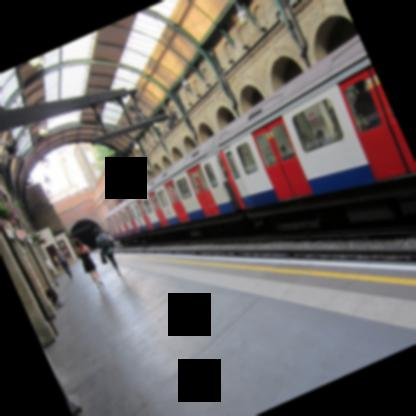backpack: (98, 234, 110, 250)
handbag: (100, 251, 107, 263), (107, 237, 115, 247)
